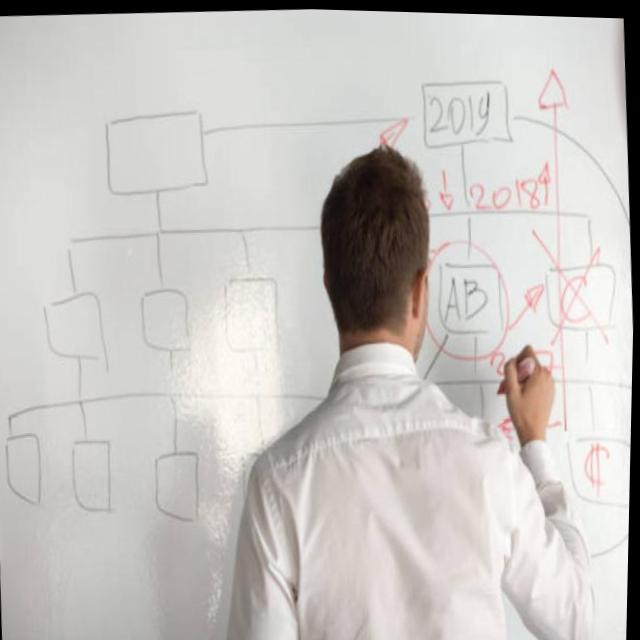no helmet: (290, 146, 451, 381)
